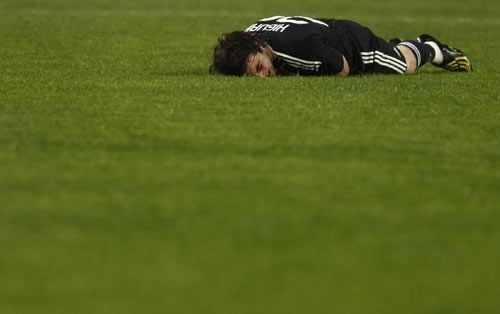falling: (202, 1, 472, 85)
